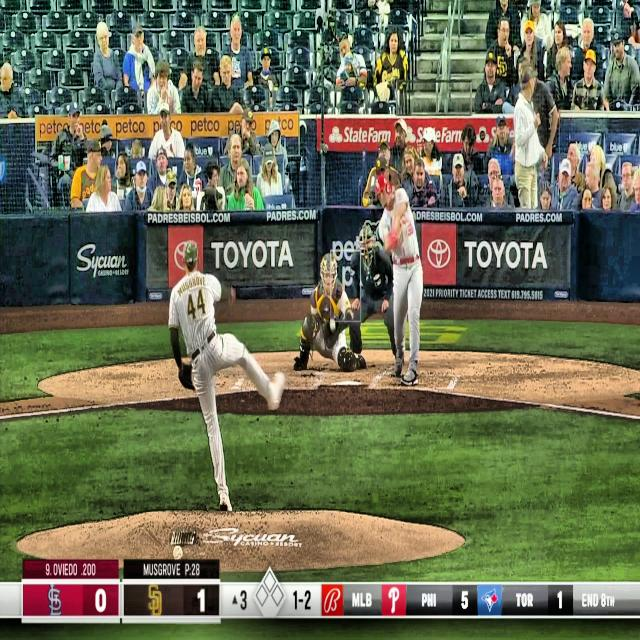baseball: (329, 318, 336, 332)
